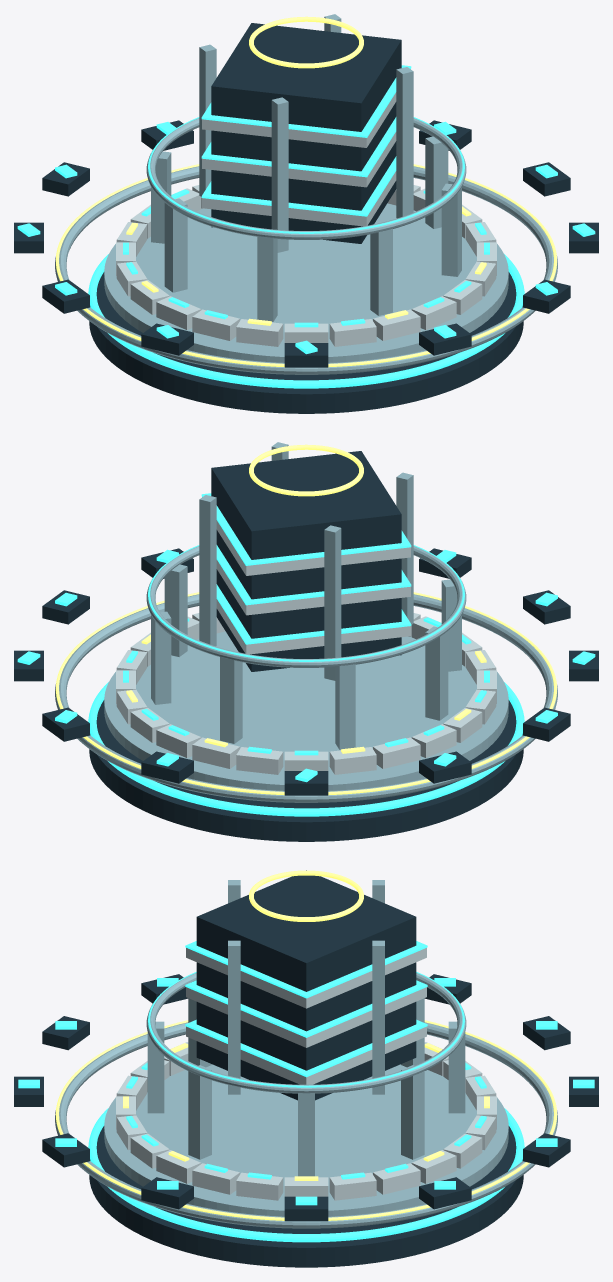
Rendered from project-nexus.glb.
3 views of the same model, one above another, from view 1: azimuth 30°, elevation 25°; view 2: azimuth 150°, elevation 25°; view 3: azimuth 270°, elevation 25° (orthographic).
Parts seen in each view (by area): view 1: Project upper deck, Project cube, Project lower deck, Outer instrument, Deck signal, Upper suspended rim, Cube corner.003, Cube corner.002, Outer data path, Floating strut.004, Evidence plane.001, Evidence plane (+36 smaller); view 2: Project upper deck, Project cube, Project lower deck, Outer instrument, Deck signal, Upper suspended rim, Cube corner, Cube corner.001, Outer data path, Floating strut.004, Evidence plane.001, Evidence plane (+36 smaller); view 3: Project cube, Project upper deck, Project lower deck, Outer instrument, Deck signal, Upper suspended rim, Outer data path, Evidence plane.001, Evidence plane.002, Evidence plane, Floating strut.001, Floating strut.007 (+34 smaller).
Part boxes in pixels (box(x1,y1,x2,y2)): Project upper deck: box(104, 203, 508, 362); Project cube: box(211, 23, 401, 243); Project lower deck: box(89, 272, 523, 413); Outer instrument: box(55, 166, 557, 374); Deck signal: box(88, 254, 524, 388); Upper suspended rim: box(146, 118, 466, 239); Cube corner.003: box(396, 67, 413, 218); Cube corner.002: box(271, 97, 288, 252); Outer data path: box(55, 164, 557, 367); Floating strut.004: box(164, 198, 187, 292); Evidence plane.001: box(202, 132, 396, 187); Evidence plane: box(202, 171, 396, 226); Project upper deck: box(104, 631, 508, 790); Project cube: box(211, 451, 401, 671); Project lower deck: box(89, 700, 523, 841); Outer instrument: box(55, 594, 557, 802); Deck signal: box(88, 682, 524, 816); Upper suspended rim: box(146, 546, 466, 667); Cube corner: box(199, 495, 216, 646); Cube corner.001: box(324, 525, 341, 680); Outer data path: box(55, 592, 557, 795); Floating strut.004: box(425, 626, 448, 720); Evidence plane.001: box(216, 560, 410, 615); Evidence plane: box(216, 599, 410, 654); Project cube: box(196, 870, 416, 1100); Project upper deck: box(104, 1064, 508, 1216); Project lower deck: box(89, 1126, 523, 1267); Outer instrument: box(55, 1022, 557, 1228); Deck signal: box(88, 1108, 524, 1242); Upper suspended rim: box(146, 973, 466, 1093); Outer data path: box(55, 1020, 557, 1220); Evidence plane.001: box(186, 987, 426, 1047); Evidence plane.002: box(186, 948, 426, 1008); Evidence plane: box(186, 1026, 426, 1084); Floating strut.001: box(401, 1065, 424, 1159); Floating strut.007: box(188, 1065, 211, 1159).
Size of the model in its own units: 3.5 by 1.86 by 3.5.
